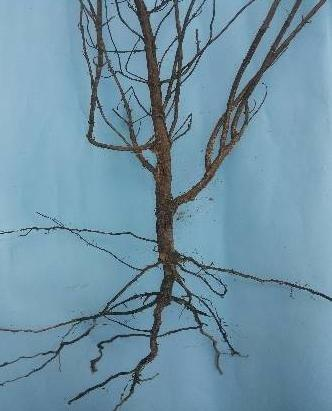root_rot: (32, 8, 325, 411)
